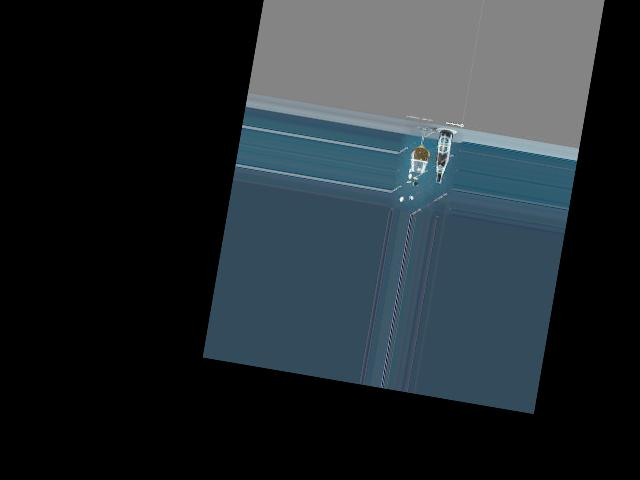beer: (431, 129, 452, 183)
